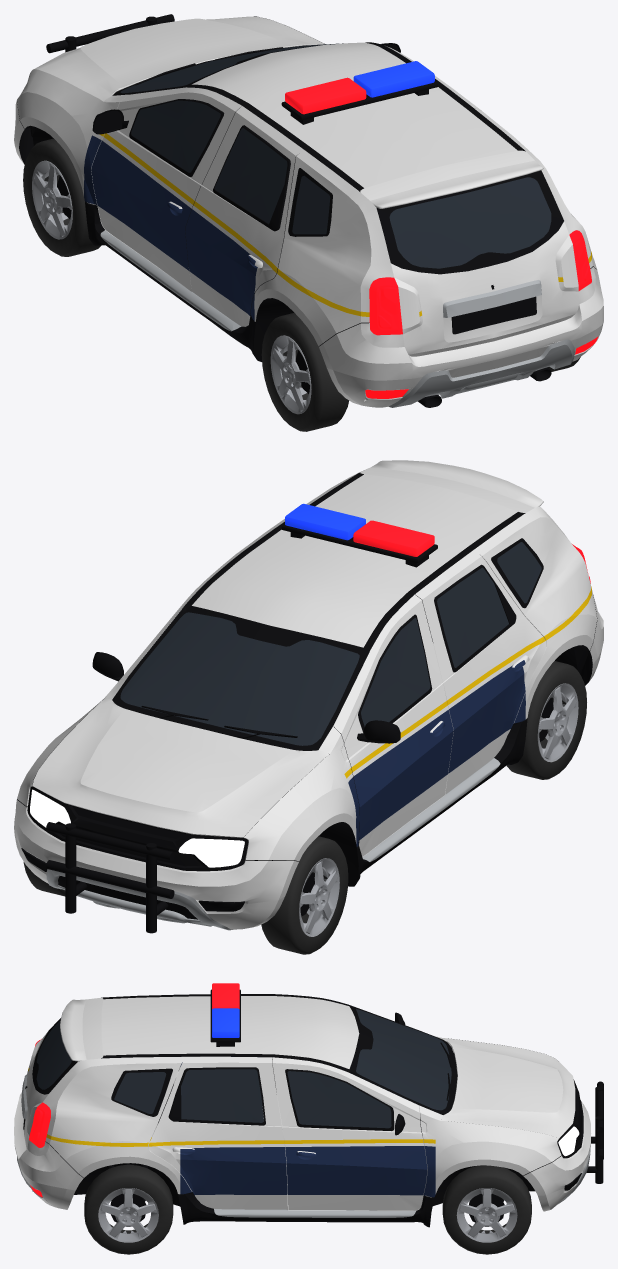
The model's file is police_suv.glb.
3 views of the same model, one above another, from view 1: azimuth 30°, elevation 25°; view 2: azimuth 150°, elevation 25°; view 3: azimuth 270°, elevation 25° (orthographic). The views are drawn at different scales.
Parts seen in each view (by area): view 1: Body, Glass, Hood, Wheel_RL, Wheel_FL, Lamp_R, Bumper_R, LightBar_Red, LightBar_Blue, Bumper_F, Mirror_L; view 2: Body, Glass, Hood, Bumper_F, Wheel_FL, Wheel_RL, Lamp_F, LightBar_Red, LightBar_Blue, Mirror_L; view 3: Body, Glass, Hood, Wheel_FR, Wheel_RR, Bumper_F, LightBar_Blue, Lamp_R, LightBar_Red, Lamp_F.
Boxes of the visible parts, x1,y1,x2,y2 form: Body: (15,16,603,401); Glass: (120,43,551,268); Hood: (27,16,324,115); Wheel_RL: (261,312,348,431); Wheel_FL: (23,138,100,256); Lamp_R: (365,230,598,398); Bumper_R: (338,347,591,407); LightBar_Red: (285,77,366,114); LightBar_Blue: (353,61,434,97); Bumper_F: (14,14,174,164); Mirror_L: (92,109,128,134); Body: (15,460,603,916); Glass: (120,542,541,745); Hood: (27,700,334,840); Bumper_F: (14,809,287,933); Wheel_FL: (261,836,348,954); Wheel_RL: (506,661,586,779); Lamp_F: (30,789,244,867); LightBar_Red: (353,520,434,556); LightBar_Blue: (285,503,365,540); Mirror_L: (357,720,400,743); Body: (14,989,582,1227); Glass: (36,1009,451,1128); Hood: (444,1038,575,1150); Wheel_FR: (442,1165,531,1254); Wheel_RR: (84,1164,173,1254); Bumper_F: (538,1081,603,1211); LightBar_Blue: (212,1008,239,1037); Lamp_R: (29,1039,50,1197); LightBar_Red: (212,983,239,1008); Lamp_F: (558,1087,579,1156).
Size of the model in its own units: 2.28 by 1.89 by 5.06.
